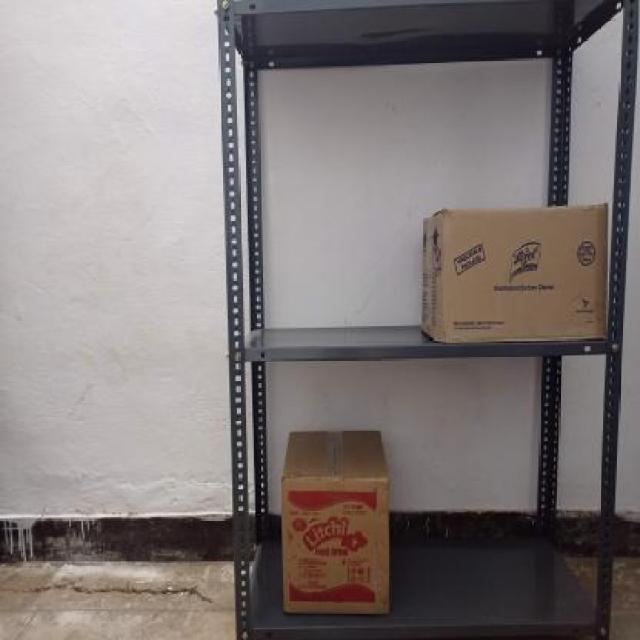box: (438, 209, 607, 340), (282, 476, 389, 610)
